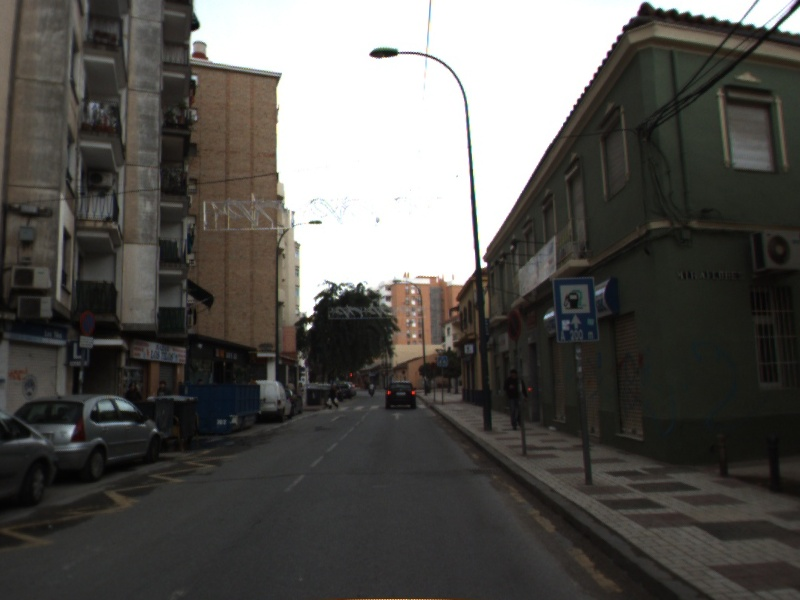STRAIGHT: (328, 412, 349, 424), (389, 411, 407, 422)
